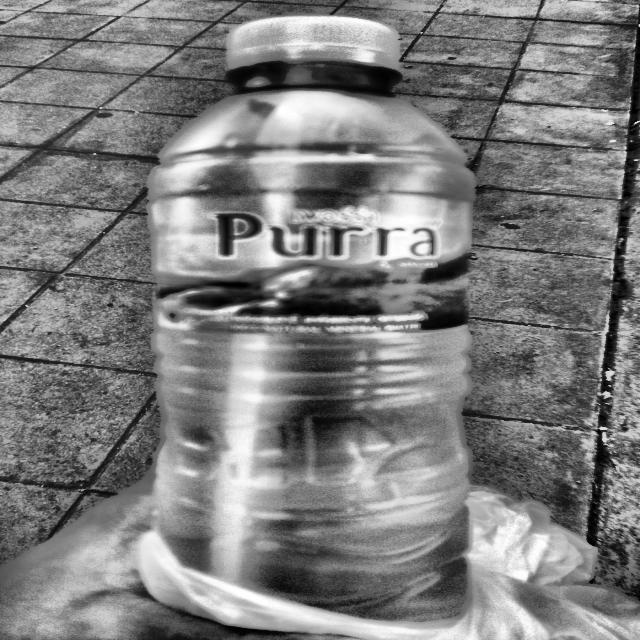waterbottle: (122, 3, 516, 640)
